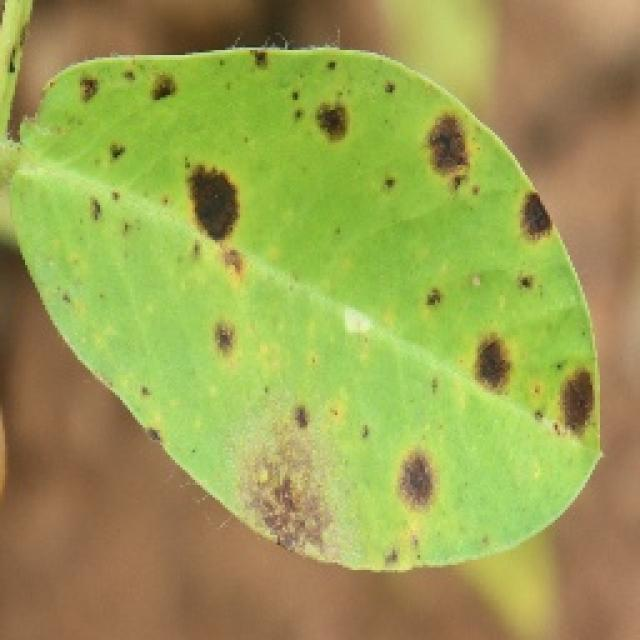Yellowish: (18, 29, 620, 567)
